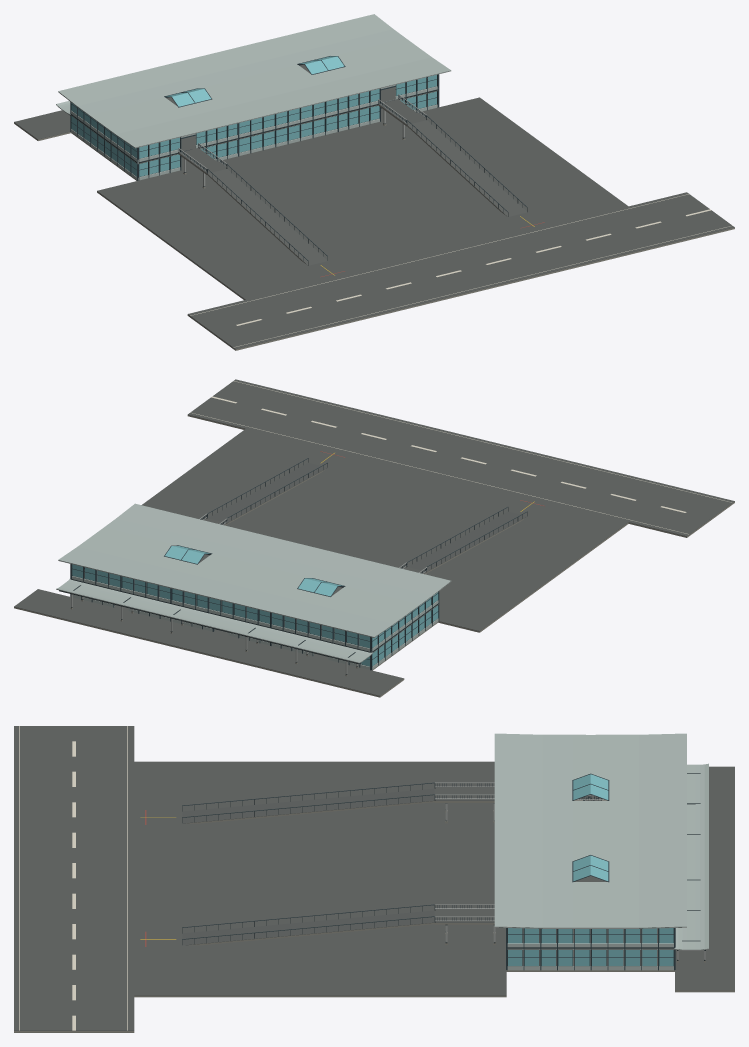
3 views of the same model, one above another, from view 1: azimuth 30°, elevation 25°; view 2: azimuth 150°, elevation 25°; view 3: azimuth 270°, elevation 25° (orthographic). The views are drawn at different scales.
Visible parts, largest first — view 1: 石铺面与混凝土承板 (×6), 连续中式金属薄檐与两处真开采光顶, 金属框、密封环与独立幕墙玻璃 (×8), 连续斜坡与独立金属扶栏 (×2), 作者机坪接续线与未绑定跑道样段; view 2: 石铺面与混凝土承板 (×3), 连续中式金属薄檐与两处真开采光顶, 金属框、密封环与独立幕墙玻璃 (×6), 连续薄檐、独立防水膜与实际承梁, 连续斜坡与独立金属扶栏 (×2), 作者机坪接续线与未绑定跑道样段; view 3: 石铺面与混凝土承板 (×6), 连续中式金属薄檐与两处真开采光顶, 连续斜坡与独立金属扶栏 (×2), 金属框、密封环与独立幕墙玻璃 (×2), 连续薄檐、独立防水膜与实际承梁, 作者机坪接续线与未绑定跑道样段.
Boxes of the visible parts, box(x1,y1,x2,y2) form: 石铺面与混凝土承板 (×6): box(14, 64, 734, 350); 连续中式金属薄檐与两处真开采光顶: box(58, 14, 451, 148); 金属框、密封环与独立幕墙玻璃 (×8): box(70, 74, 438, 180); 连续斜坡与独立金属扶栏 (×2): box(207, 115, 527, 265); 作者机坪接续线与未绑定跑道样段: box(190, 194, 732, 347); 石铺面与混凝土承板 (×3): box(14, 379, 734, 697); 连续中式金属薄檐与两处真开采光顶: box(58, 503, 451, 637); 金属框、密封环与独立幕墙玻璃 (×6): box(71, 564, 439, 670); 连续薄檐、独立防水膜与实际承梁: box(56, 579, 372, 664); 连续斜坡与独立金属扶栏 (×2): box(207, 458, 527, 572); 作者机坪接续线与未绑定跑道样段: box(190, 381, 731, 534); 石铺面与混凝土承板 (×6): box(14, 726, 734, 1032); 连续中式金属薄檐与两处真开采光顶: box(494, 733, 686, 928); 连续斜坡与独立金属扶栏 (×2): box(182, 782, 434, 945); 金属框、密封环与独立幕墙玻璃 (×2): box(506, 928, 674, 970); 连续薄檐、独立防水膜与实际承梁: box(674, 763, 708, 950); 作者机坪接续线与未绑定跑道样段: box(19, 726, 176, 1030).
Size of the model in its own units: 120 by 10.31 by 120.
16 materials, 16 textured.
